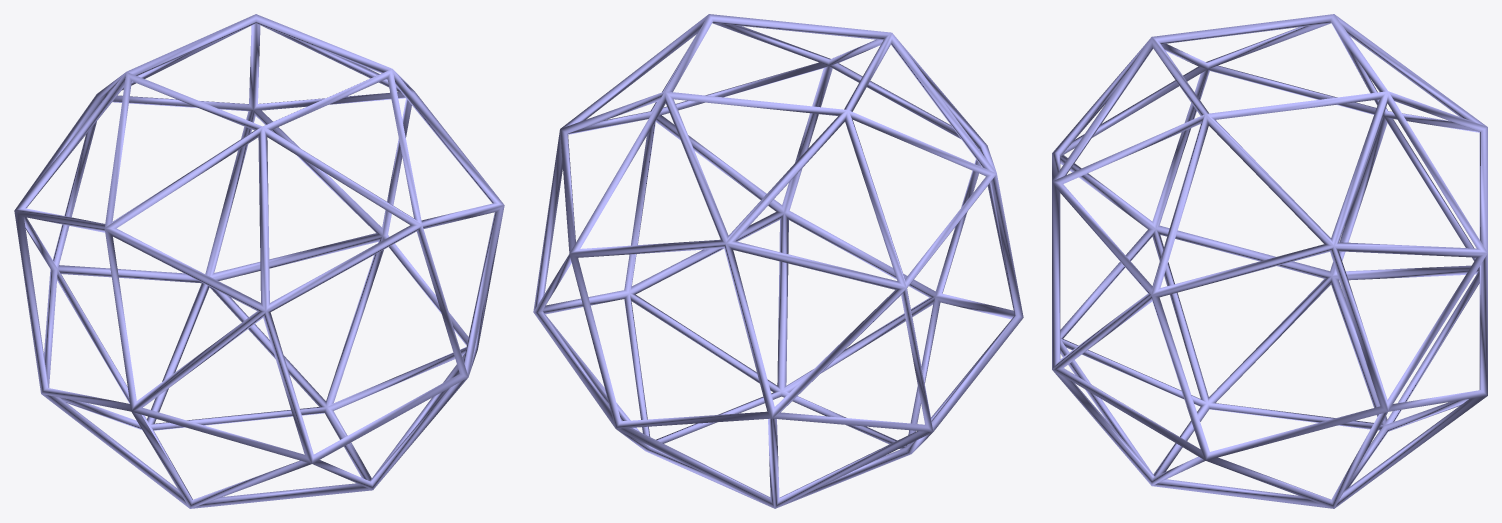
The model's file is SnubCube1.glb.
The picture shows the model from 3 angles, left to right: view 1: azimuth 30°, elevation 25°; view 2: azimuth 150°, elevation 25°; view 3: azimuth 270°, elevation 25°; orthographic projection.
Visible parts, largest first — view 1: SnubCube; view 2: SnubCube; view 3: SnubCube.
Boxes of the visible parts, <box> form: SnubCube: <box>14,14,504,508</box>; SnubCube: <box>533,14,1023,508</box>; SnubCube: <box>1052,14,1487,508</box>.
Bounding box in the file's own units: 2.33 × 2.33 × 2.33.
